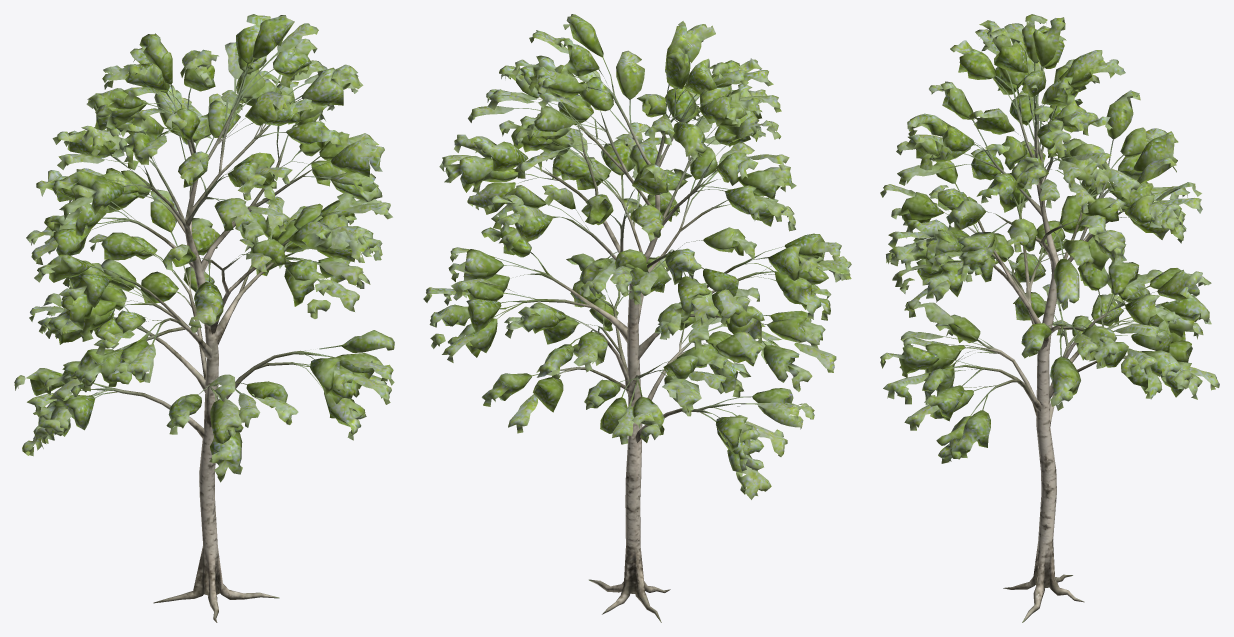
Rendered from birch.glb.
3 views of the same model, side by side, from view 1: azimuth 30°, elevation 25°; view 2: azimuth 150°, elevation 25°; view 3: azimuth 270°, elevation 25° (orthographic). The views are drawn at different scales.
Visible parts, largest first — view 1: tripo_node_c96b743e-aee8-45f7-b653-ea3663c5cc81; view 2: tripo_node_c96b743e-aee8-45f7-b653-ea3663c5cc81; view 3: tripo_node_c96b743e-aee8-45f7-b653-ea3663c5cc81.
Boxes of the visible parts, <box> form: tripo_node_c96b743e-aee8-45f7-b653-ea3663c5cc81: <box>14,14,394,622</box>; tripo_node_c96b743e-aee8-45f7-b653-ea3663c5cc81: <box>423,14,851,622</box>; tripo_node_c96b743e-aee8-45f7-b653-ea3663c5cc81: <box>880,14,1219,622</box>.
Size of the model in its own units: 0.6294 by 0.9995 by 0.5552.
Materials: 1 (1 with a texture image).
